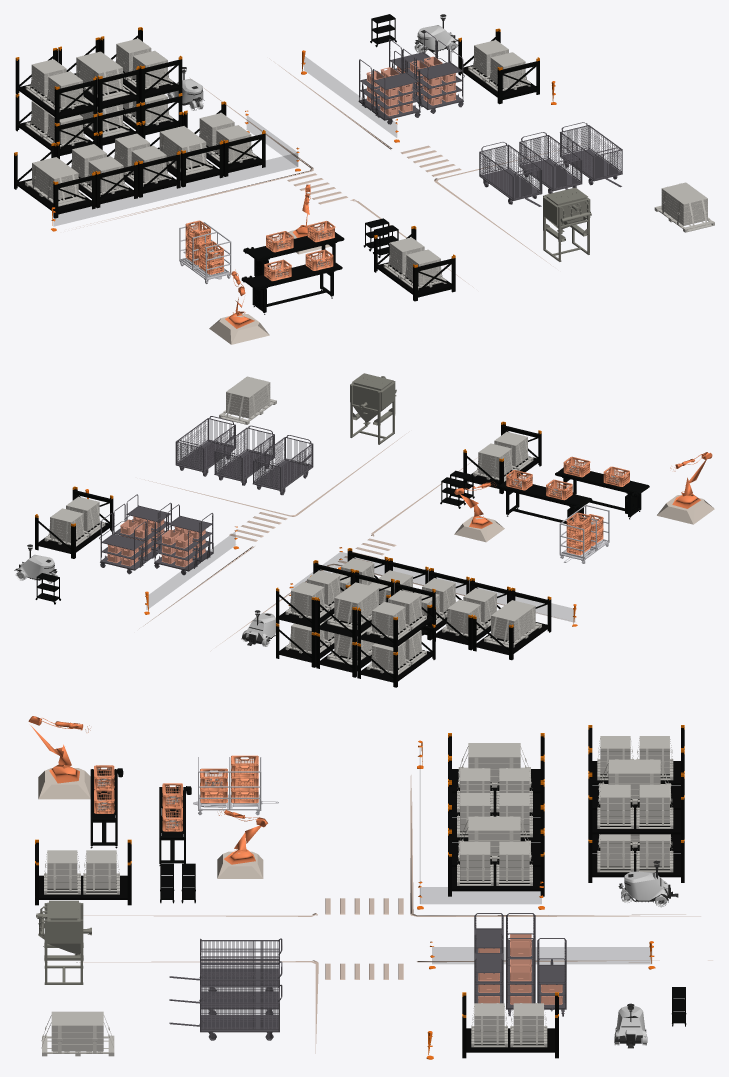
File: factory-interior-1.glb
3 views of the same model, one above another, from view 1: azimuth 30°, elevation 25°; view 2: azimuth 150°, elevation 25°; view 3: azimuth 270°, elevation 25° (orthographic). The views are drawn at different scales.
Visible parts, largest first — view 1: White#2, Barricade, Shader#116; view 2: White#2, Shader#116, Barricade; view 3: White#2, Barricade, Shader#116.
Part boxes in pixels (x1,y1,x2,y2): White#2: (14,14,714,344); Barricade: (54,57,396,225); Shader#116: (185,220,335,281); White#2: (14,373,714,687); Shader#116: (506,456,629,555); Barricade: (147,532,574,622); White#2: (28,716,712,1059); Barricade: (420,887,651,963); Shader#116: (94,755,258,831).
Size of the model in its own units: 6.4 by 0.8633 by 6.4.
3 materials, 3 textured.
